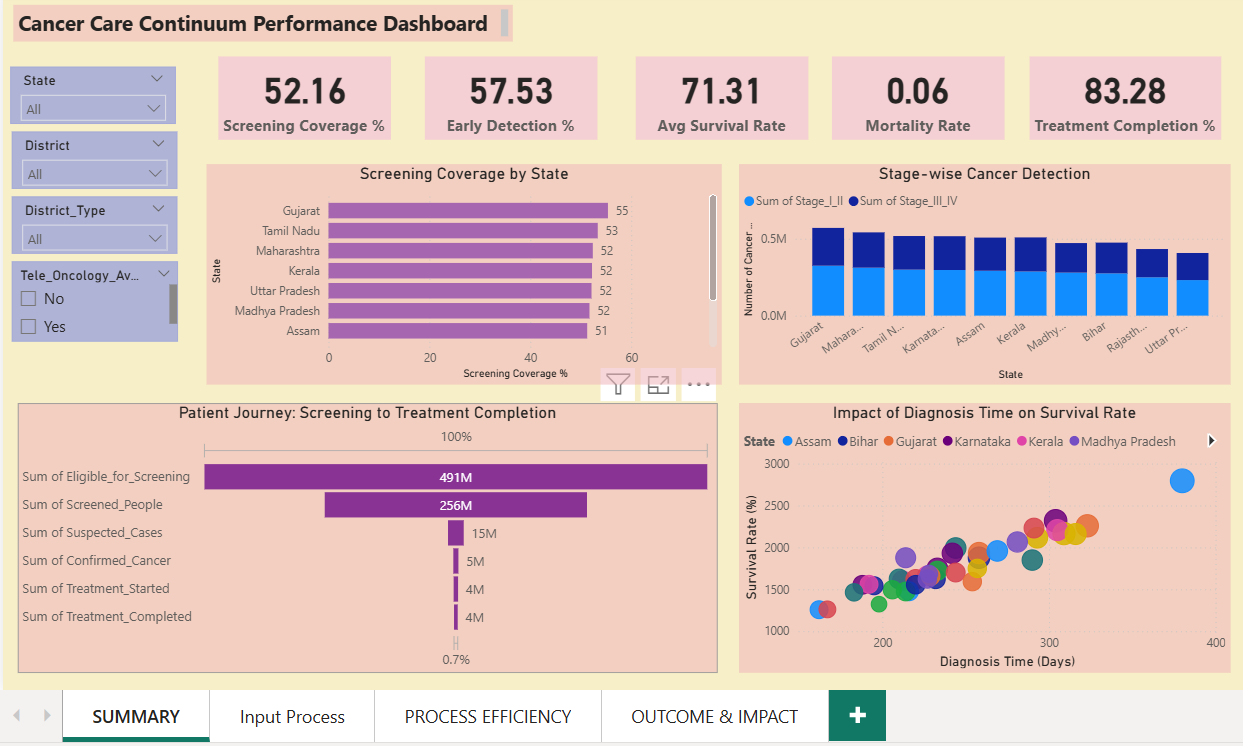

The page's visual inventory and layout, read from the dashboard file:
{"tool":"powerbi","page":{"name":"SUMMARY","canvas":[1280,720],"ordinal":0},"visuals":[{"type":"slicer","fields":{"Values":["Sheet1.State"]},"box":[8.2,76.4,171,59.1],"z":1000},{"type":"slicer","fields":{"Values":["Sheet1.District"]},"box":[9.1,142.7,171,59.1],"z":2000},{"type":"slicer","fields":{"Values":["Sheet1.District_Type"]},"box":[9.1,210,171,59.1],"z":3000},{"type":"slicer","fields":{"Values":["Sheet1.Tele_Oncology_Available"]},"box":[9.2,277.5,171.7,82.8],"z":4000},{"type":"textbox","box":[10,12,516,38],"z":4001},{"type":"card","fields":{"Values":["Sheet1.Screening Coverage %"]},"box":[222,66,178,86],"z":4002},{"type":"card","fields":{"Values":["Sheet1.Early Detection %"]},"box":[436,66,178,86],"z":4003},{"type":"card","fields":{"Values":["Sheet1.Mortality Rate"]},"box":[856,66,178,86],"z":4004},{"type":"card","fields":{"Values":["Sheet1.Avg Survival Rate"]},"box":[654,66,178,86],"z":4005},{"type":"card","fields":{"Values":["Sheet1.Treatment Completion %"]},"box":[1060,66,198,86],"z":4006},{"type":"funnel","title":"Patient Journey: Screening to Treatment Completion","fields":{"Y":["Sum(Sheet1.Eligible_for_Screening)","Sum(Sheet1.Screened_People)","Sum(Sheet1.Suspected_Cases)","Sum(Sheet1.Confirmed_Cancer)","Sum(Sheet1.Treatment_Started)","Sum(Sheet1.Treatment_Completed)"]},"box":[15,423.8,722.5,278.8],"z":4008},{"type":"scatterChart","title":"Impact of Diagnosis Time on Survival Rate","fields":{"Category":["Sheet1.District"],"Series":["Sheet1.State"],"Size":["Sum(Sheet1.Population_Total)"],"X":["Sum(Sheet1.Avg_Diagnosis_Time_Days)"],"Y":["Sum(Sheet1.One_Year_Survival_Rate_percent)"]},"box":[760,423.8,507.5,278.8],"z":4009},{"type":"clusteredBarChart","title":"Screening Coverage by State","fields":{"Category":["Sheet1.State"],"Y":["Avg(Sheet1.Screening_Coverage_percent)"]},"box":[210,176.2,532.5,227.5],"z":4010},{"type":"columnChart","title":"Stage-wise Cancer Detection","fields":{"Category":["Sheet1.State"],"Y":["Sum(Sheet1.Stage_I_II)","Sum(Sheet1.Stage_III_IV)"]},"box":[760,176.2,507.5,227.5],"z":4011}]}

Visuals, with their boxes on the page's 1280x720 design canvas (x1, y1, x2, y2). These are canvas units, not pixel positions in the 1243x746 screenshot, which may show the page scaled, cropped or inside an application window:
slicer - Sheet1.State: x1=8, y1=76, x2=179, y2=136
slicer - Sheet1.District: x1=9, y1=143, x2=180, y2=202
slicer - Sheet1.District_Type: x1=9, y1=210, x2=180, y2=269
slicer - Sheet1.Tele_Oncology_Available: x1=9, y1=278, x2=181, y2=360
textbox: x1=10, y1=12, x2=526, y2=50
card - Sheet1.Screening Coverage %: x1=222, y1=66, x2=400, y2=152
card - Sheet1.Early Detection %: x1=436, y1=66, x2=614, y2=152
card - Sheet1.Mortality Rate: x1=856, y1=66, x2=1034, y2=152
card - Sheet1.Avg Survival Rate: x1=654, y1=66, x2=832, y2=152
card - Sheet1.Treatment Completion %: x1=1060, y1=66, x2=1258, y2=152
"Patient Journey: Screening to Treatment Completion" funnel: x1=15, y1=424, x2=738, y2=703
"Impact of Diagnosis Time on Survival Rate" scatterChart: x1=760, y1=424, x2=1268, y2=703
"Screening Coverage by State" clusteredBarChart: x1=210, y1=176, x2=742, y2=404
"Stage-wise Cancer Detection" columnChart: x1=760, y1=176, x2=1268, y2=404
